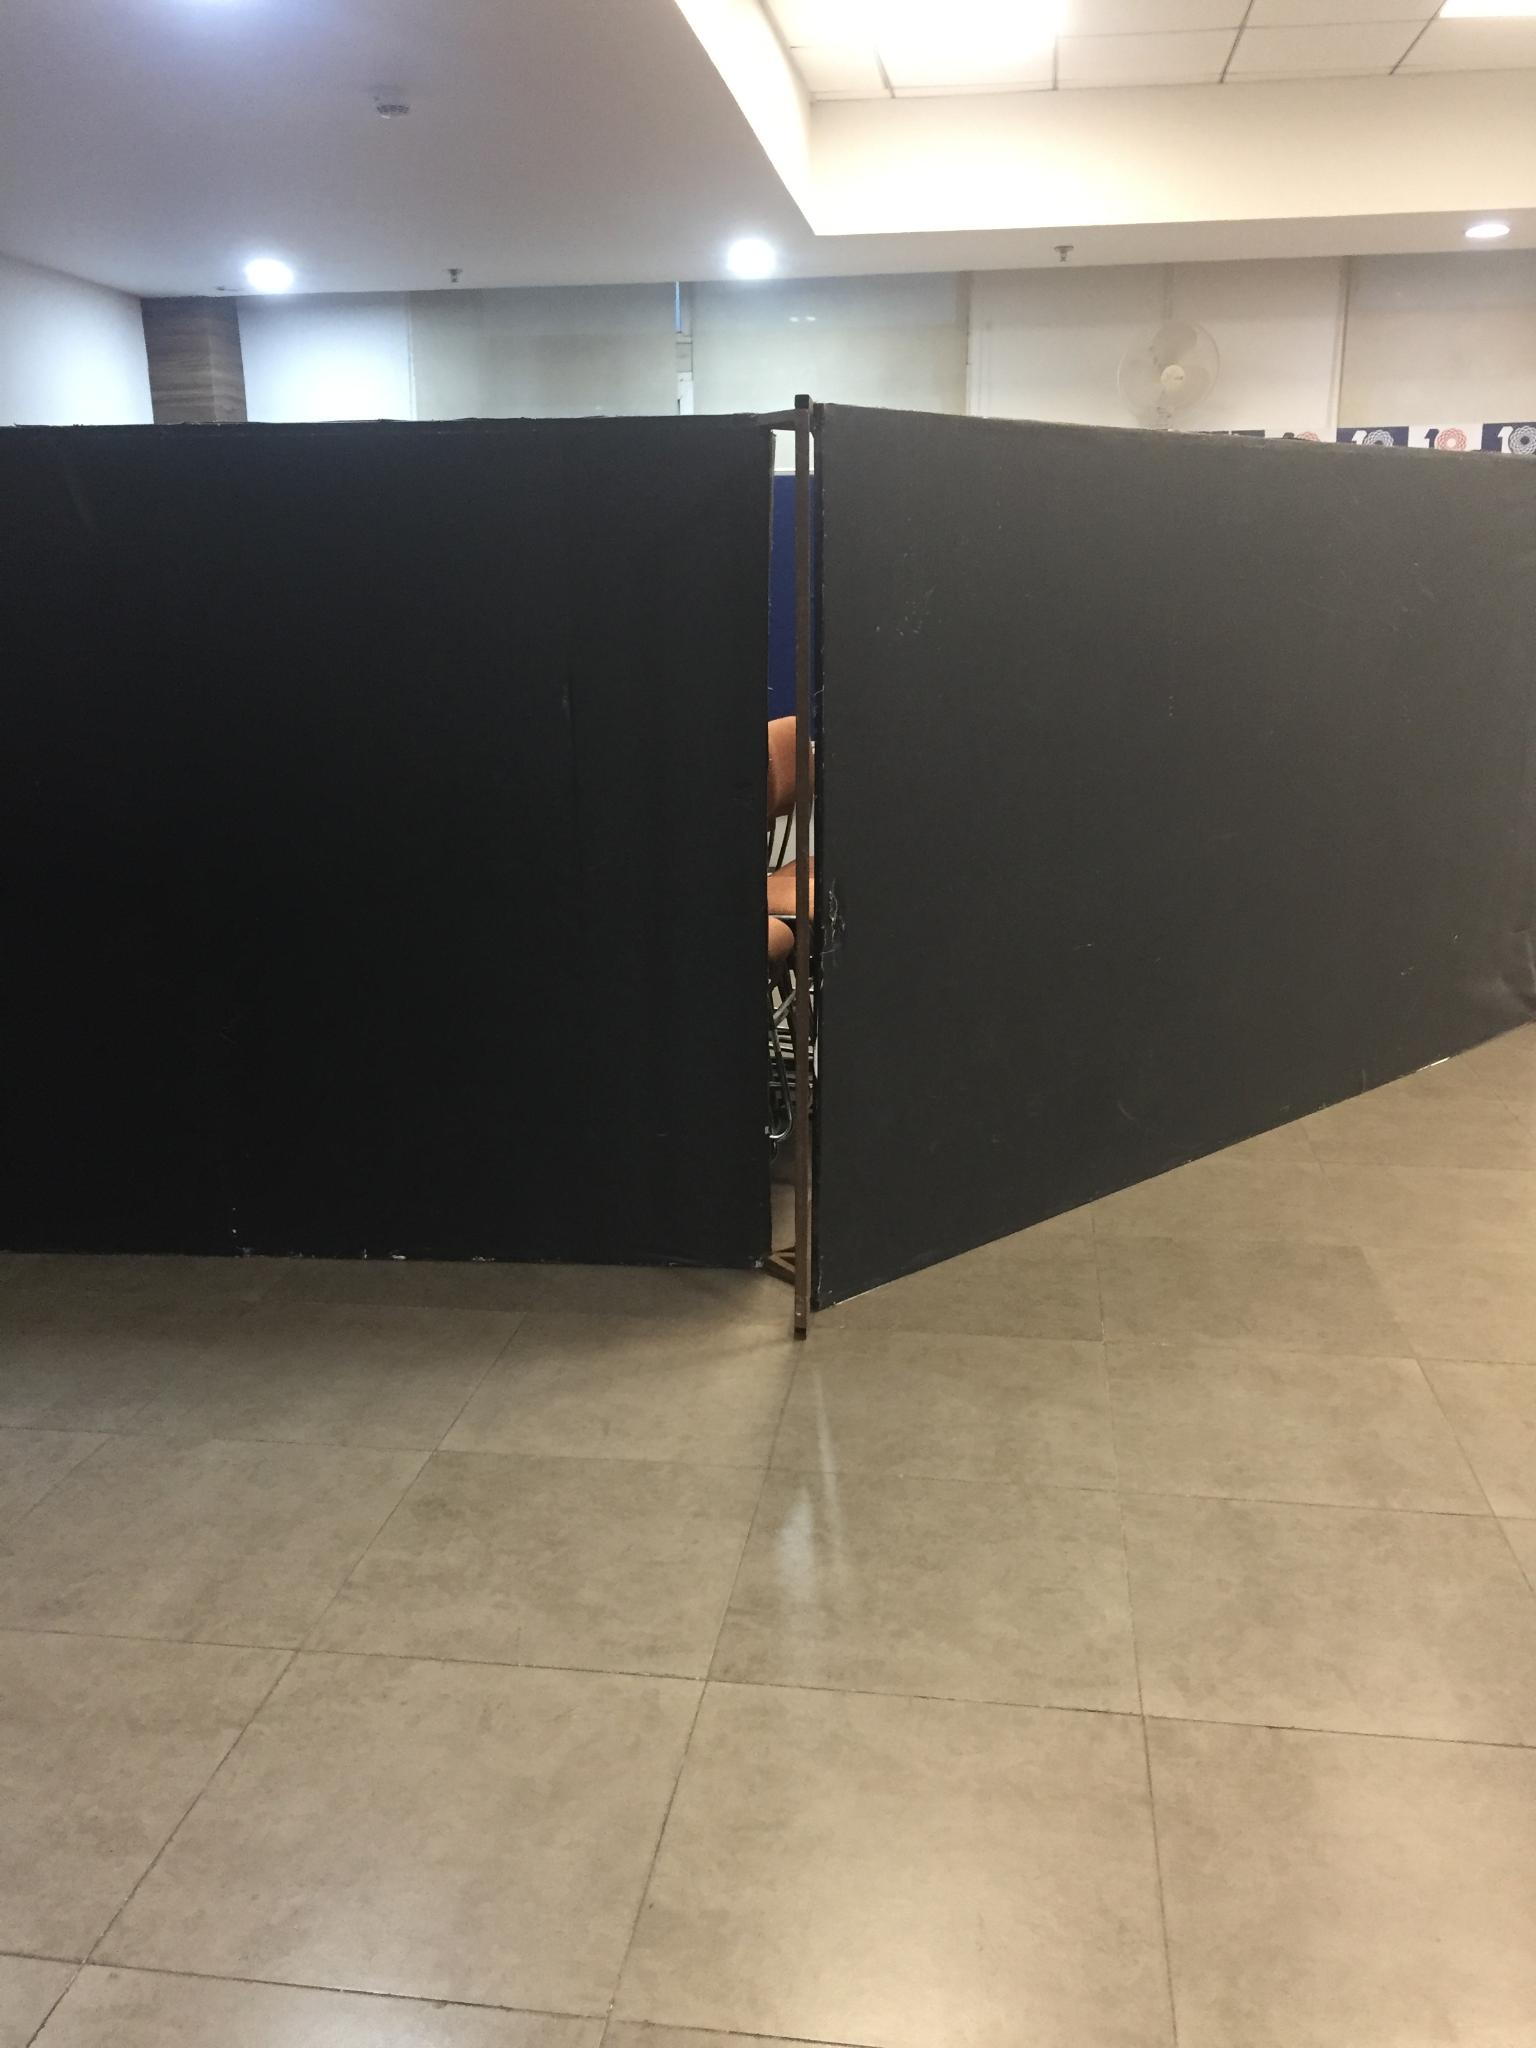chair: (760, 698, 810, 1188)
